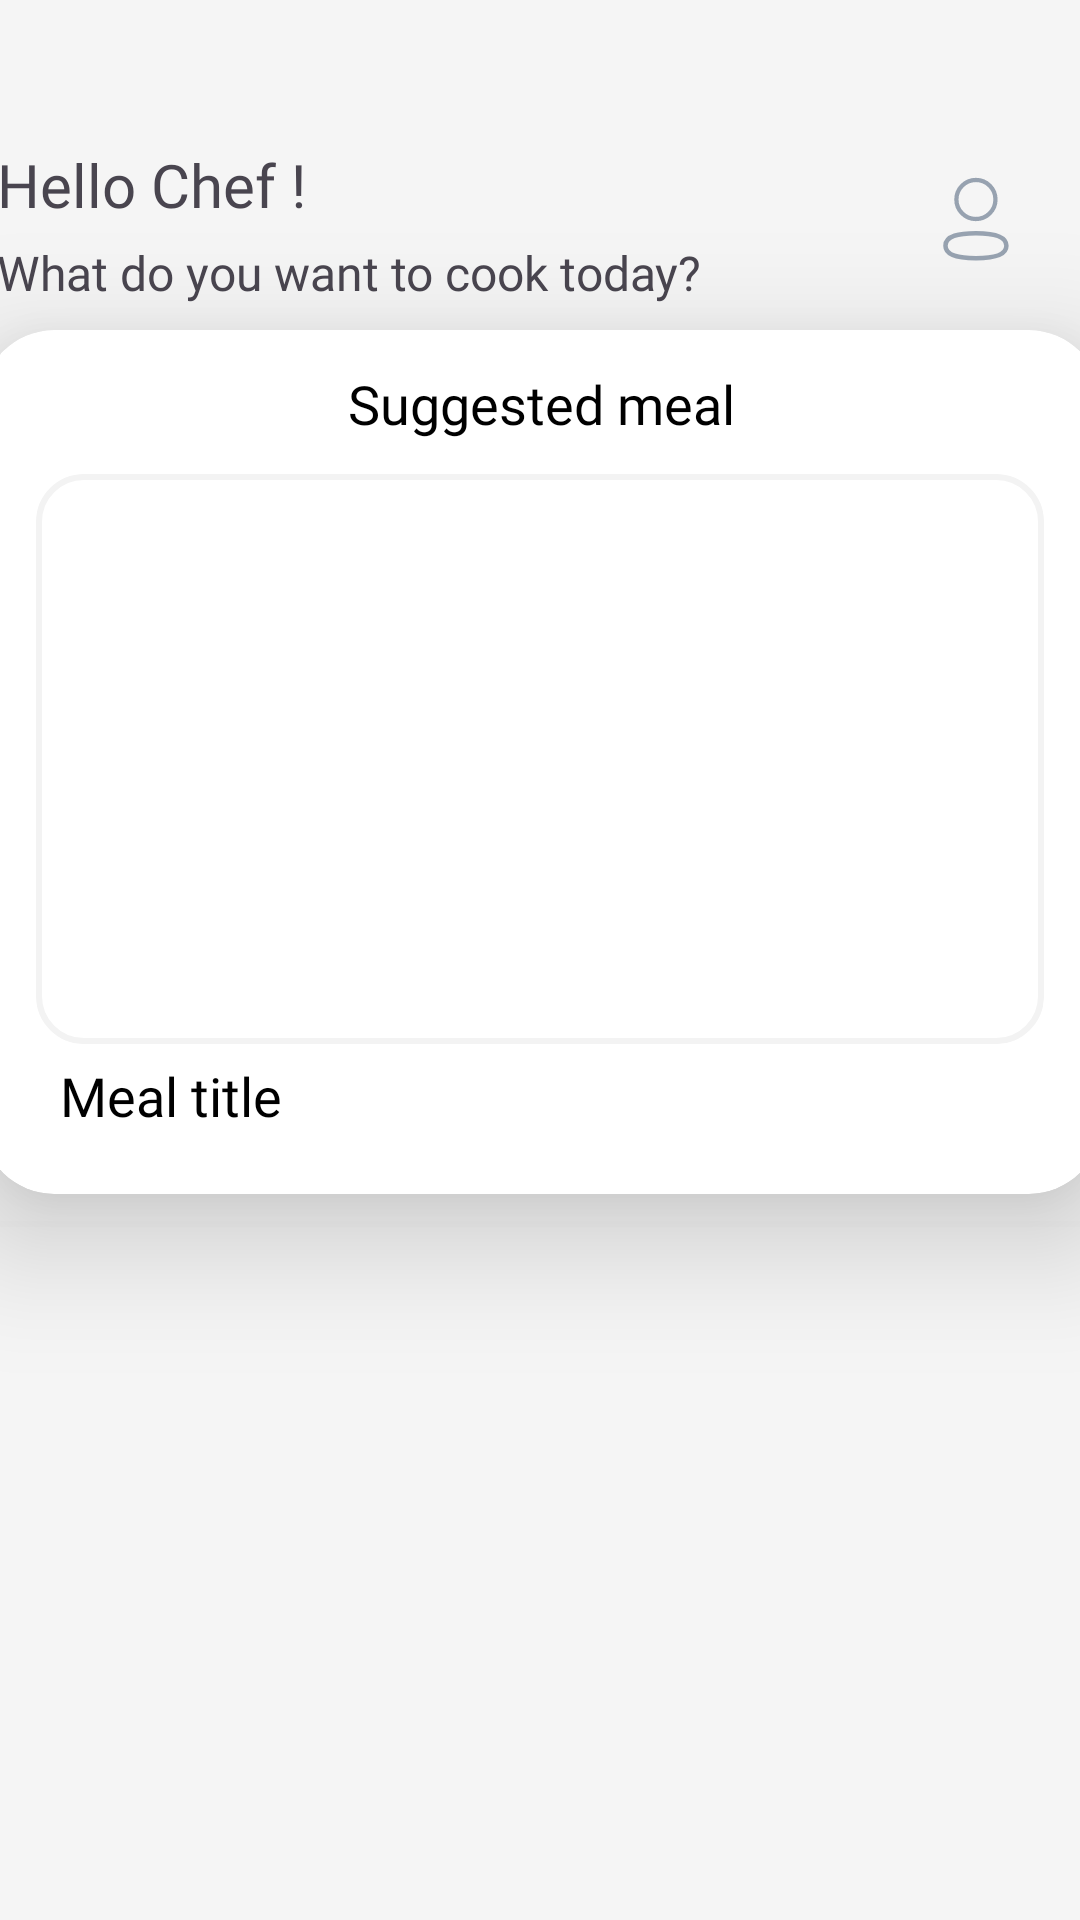

Screen size 1080 x 1920. Icon name, then its box in pixels as [x1,y1,x2,y2]:
user: [943,178,1009,261]
